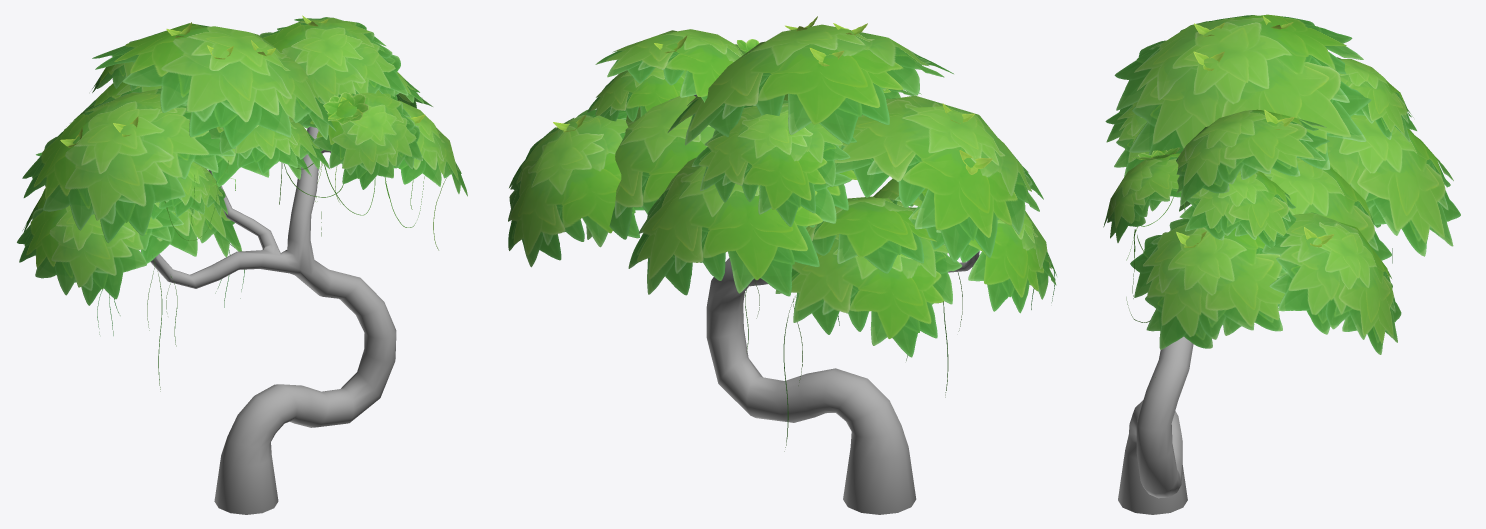
The model's file is JungleTree.fbx.
3 renders of one model, left to right at view 1: azimuth 30°, elevation 25°; view 2: azimuth 150°, elevation 25°; view 3: azimuth 270°, elevation 25°, orthographic. The views are drawn at different scales.
Parts seen in each view (by area): view 1: pCylinder1, pDisc11, pDisc13, pDisc6, pDisc12, pDisc17, pDisc19, pDisc10, pDisc7, pDisc18, pDisc9, pDisc23 (+2 smaller); view 2: pDisc11, pDisc13, pCylinder1, pDisc20, pDisc8, pDisc16, pDisc21, pDisc15, pDisc10, pDisc6, pDisc12, pDisc33; view 3: pDisc13, pDisc7, pDisc8, pDisc20, pCylinder1, pDisc12, pDisc33, pDisc15, pDisc17, pDisc21, pDisc19.
Boxes of the visible parts, x1,y1,x2,y2 form: pCylinder1: [140, 126, 396, 514]; pDisc11: [22, 88, 235, 242]; pDisc13: [92, 23, 336, 148]; pDisc6: [17, 205, 183, 305]; pDisc12: [259, 17, 408, 126]; pDisc17: [301, 90, 422, 189]; pDisc19: [209, 116, 329, 174]; pDisc10: [36, 152, 241, 263]; pDisc7: [393, 100, 467, 196]; pDisc18: [159, 162, 227, 216]; pDisc9: [211, 149, 311, 186]; pDisc23: [323, 92, 368, 124]; pDisc11: [834, 95, 1043, 262]; pDisc13: [667, 24, 953, 145]; pCylinder1: [694, 94, 979, 514]; pDisc20: [628, 157, 851, 296]; pDisc8: [508, 109, 644, 267]; pDisc16: [775, 198, 962, 357]; pDisc21: [691, 100, 856, 226]; pDisc15: [586, 95, 714, 239]; pDisc10: [806, 196, 945, 273]; pDisc6: [895, 196, 1056, 313]; pDisc12: [595, 29, 745, 102]; pDisc33: [587, 67, 686, 121]; pDisc13: [1114, 14, 1371, 169]; pDisc7: [1130, 218, 1287, 349]; pDisc8: [1262, 212, 1401, 354]; pDisc20: [1327, 115, 1460, 256]; pCylinder1: [1118, 336, 1193, 514]; pDisc12: [1176, 109, 1329, 205]; pDisc33: [1179, 170, 1296, 248]; pDisc15: [1262, 158, 1391, 260]; pDisc17: [1103, 153, 1181, 242]; pDisc21: [1337, 57, 1416, 142]; pDisc19: [1105, 101, 1149, 177].
Bounding box in the file's own units: 30.48 × 29.44 × 20.91.
